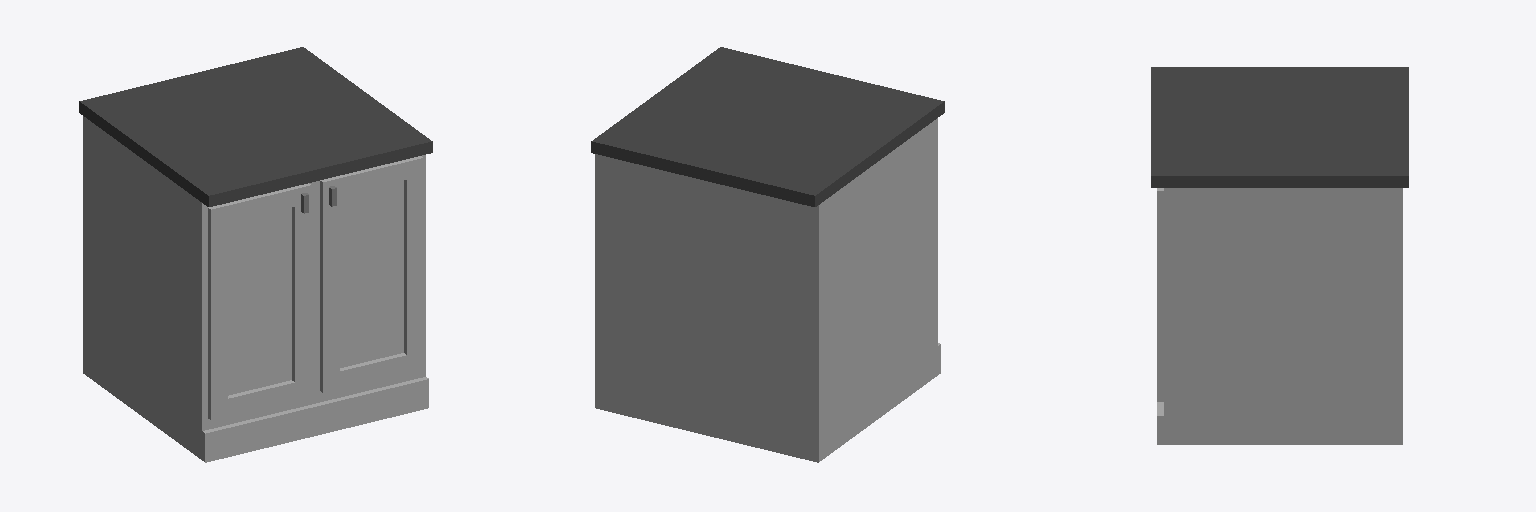
3 views of the same model, side by side, from view 1: azimuth 30°, elevation 25°; view 2: azimuth 150°, elevation 25°; view 3: azimuth 270°, elevation 25° (orthographic).
Visible parts, largest first — view 1: closet; view 2: closet; view 3: closet.
Part boxes in pixels (x1,y1,x2,y2): closet: (79, 47, 432, 462); closet: (591, 47, 944, 462); closet: (1151, 67, 1408, 444).
Bounding box in the file's own units: 4 × 4.6 × 4.
Materials: 1 (1 with a texture image).